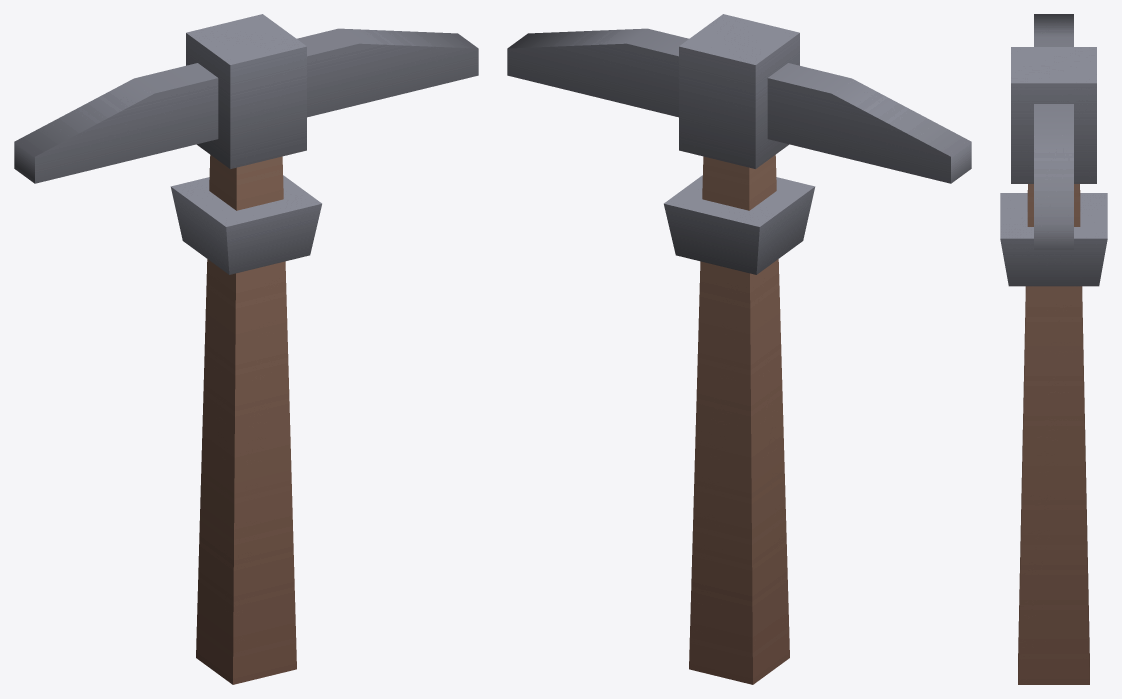
The model's file is pickaxe.glb.
3 views of the same model, side by side, from view 1: azimuth 30°, elevation 25°; view 2: azimuth 150°, elevation 25°; view 3: azimuth 270°, elevation 25° (orthographic). The views are drawn at different scales.
Parts seen in each view (by area): view 1: tool-pickaxe; view 2: tool-pickaxe; view 3: tool-pickaxe.
Boxes of the visible parts, box(x1,y1,x2,y2) form: tool-pickaxe: box(14, 14, 478, 684); tool-pickaxe: box(507, 14, 971, 684); tool-pickaxe: box(1000, 14, 1107, 684).
Size of the model in its own units: 0.4733 by 0.636 by 0.1026.
1 material, 1 textured.
